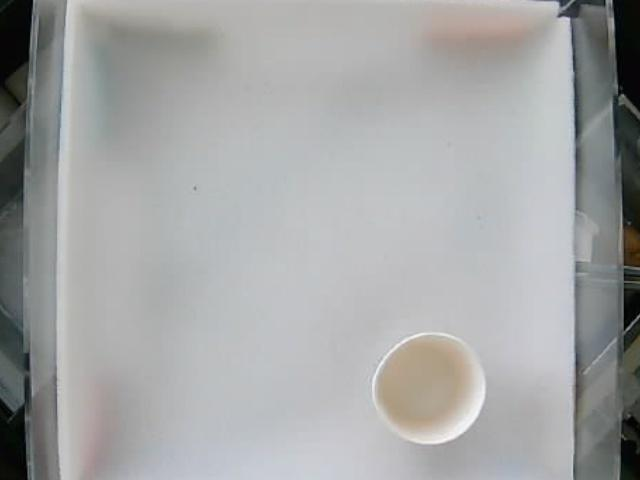Cup: (372, 329, 487, 444)
